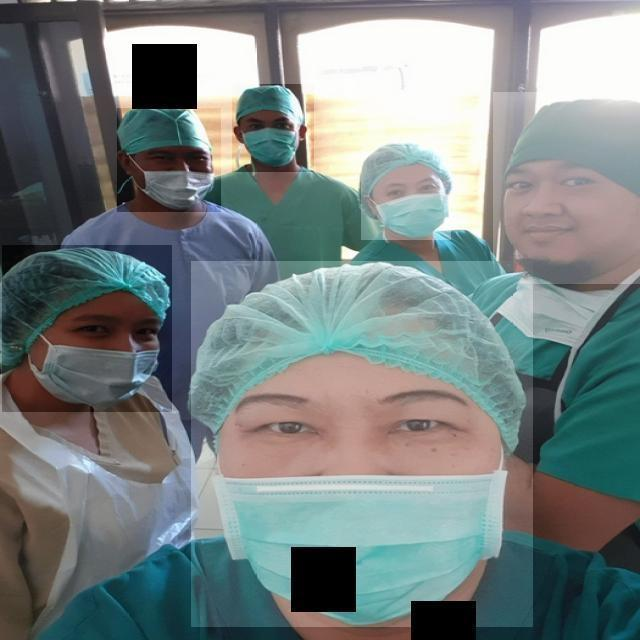gloves: (194, 261, 520, 455), (0, 246, 177, 366), (120, 106, 209, 162), (359, 141, 448, 195), (233, 77, 305, 124)
hairnet: (486, 192, 633, 336), (106, 150, 210, 208)
mask: (186, 458, 528, 640), (0, 326, 170, 413), (230, 121, 313, 172), (359, 196, 449, 240)
